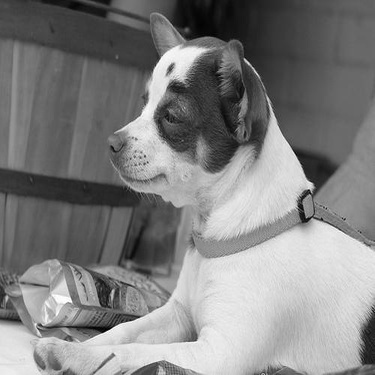dog: (20, 10, 370, 371)
